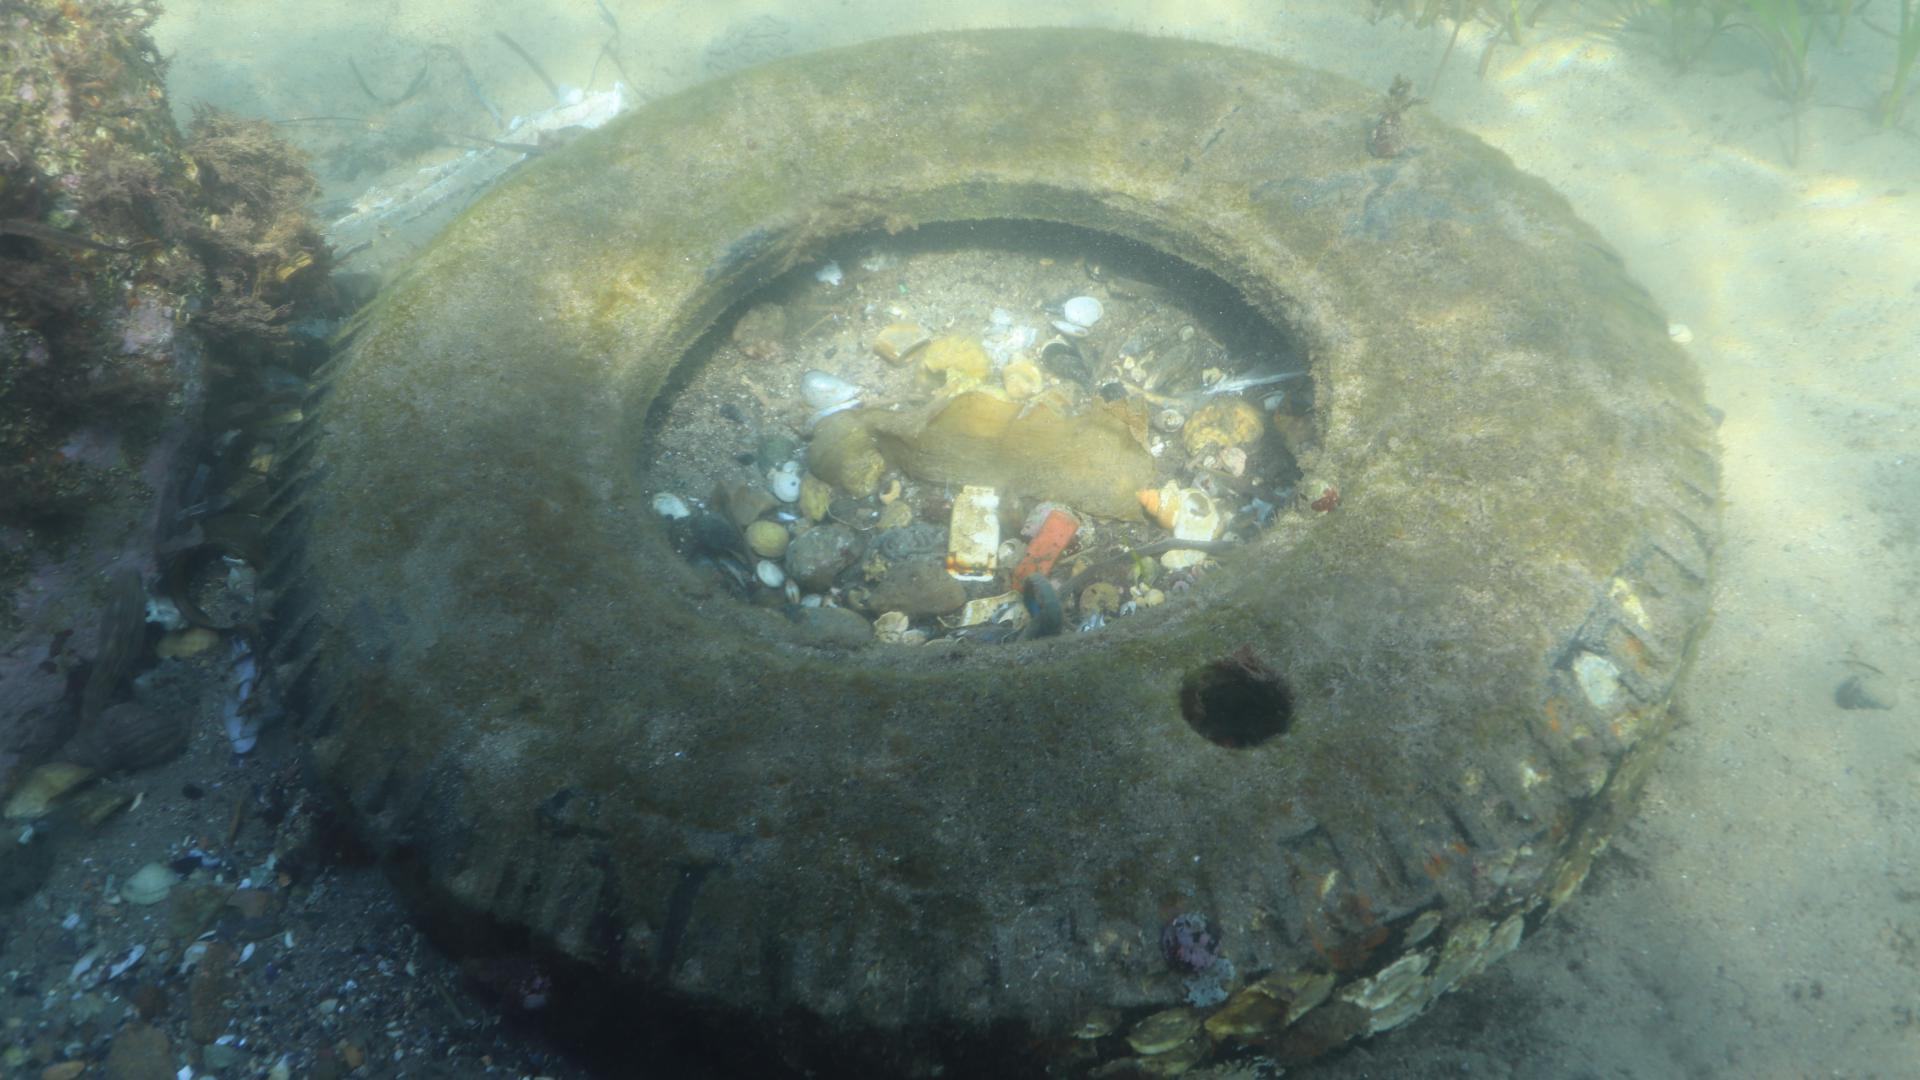tire: (255, 22, 1726, 1080)
